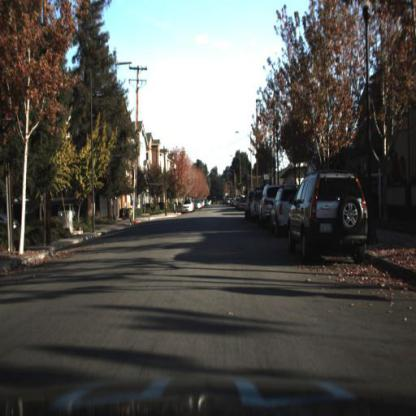car: (289, 171, 369, 263), (270, 183, 294, 232), (261, 180, 280, 227), (59, 197, 84, 227), (179, 195, 196, 216)
